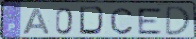0: (55, 7, 75, 36)
A: (22, 7, 52, 36)
C: (109, 7, 134, 36)
D: (78, 5, 108, 37), (164, 5, 192, 37)
E: (136, 7, 164, 36)
